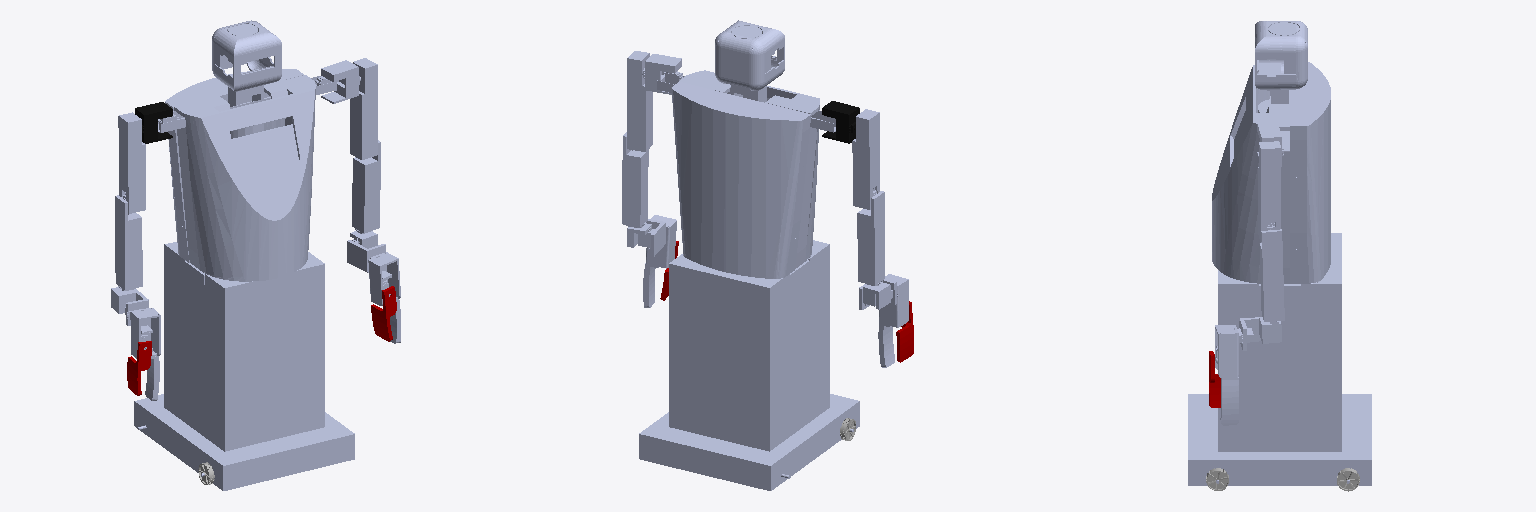
--- Render facts (derived) ---
Views: 3 orthographic renders of the robot side by side, from view 1: azimuth 30°, elevation 25°; view 2: azimuth 150°, elevation 25°; view 3: azimuth 270°, elevation 25°.
Model ardop3_final with 20 links and 19 joints (18 continuous, 1 fixed), rooted at odom, posed every joint at zero.
Links seen in each view (by area): view 1: base_link, bicep_right_Link, bicep_left_Link, forearm_right_Link, forearm_left_Link, wrist3_right_Link, wrist3_left_Link, shoulder_left_Link, shoulder_right_Link, end_effector_left_Link, end_effector_right_Link, wrist2_left_Link; view 2: base_link, bicep_right_Link, forearm_right_Link, bicep_left_Link, forearm_left_Link, wrist3_right_Link, wrist3_left_Link, shoulder_right_Link, shoulder_left_Link, end_effector_right_Link, wrist_right_Link; view 3: base_link, forearm_left_Link, wrist3_left_Link, bicep_left_Link, wrist2_left_Link, end_effector_left_Link.
Link boxes in pixels (box(x1,y1,x2,y2)): base_link: box(134, 20, 354, 490); bicep_right_Link: box(118, 112, 145, 214); bicep_left_Link: box(350, 58, 377, 159); forearm_right_Link: box(115, 195, 142, 290); forearm_left_Link: box(352, 140, 380, 233); wrist3_right_Link: box(131, 308, 160, 400); wrist3_left_Link: box(368, 253, 400, 343); shoulder_left_Link: box(321, 60, 360, 103); shoulder_right_Link: box(135, 102, 172, 143); end_effector_left_Link: box(371, 286, 396, 341); end_effector_right_Link: box(127, 341, 151, 395); wrist2_left_Link: box(347, 240, 387, 272); base_link: box(639, 20, 859, 490); bicep_right_Link: box(852, 109, 879, 209); forearm_right_Link: box(857, 191, 884, 285); bicep_left_Link: box(627, 51, 652, 151); forearm_left_Link: box(622, 132, 648, 227); wrist3_right_Link: box(878, 274, 908, 367); wrist3_left_Link: box(643, 215, 676, 307); shoulder_right_Link: box(822, 101, 859, 143); shoulder_left_Link: box(642, 54, 681, 94); end_effector_right_Link: box(896, 301, 913, 362); wrist_right_Link: box(863, 282, 890, 309); base_link: box(1188, 21, 1371, 485); forearm_left_Link: box(1259, 229, 1284, 323); wrist3_left_Link: box(1215, 325, 1238, 425); bicep_left_Link: box(1258, 141, 1280, 242); wrist2_left_Link: box(1237, 317, 1260, 350); end_effector_left_Link: box(1209, 351, 1220, 407).
Size in the robot's own frame: 0.762 by 0.444 by 1.14 metres.
18 mesh visuals loaded from 19 distinct referenced files (18 binary STL); not drawn: 1 (reference not matched to a file when rendering).

robot.urdf — ardop3_final:
<robot
  name="ardop3_final">
   <link name="odom" />

  <link
    name="base_link">
    <inertial>
      <origin
        xyz="0.23536 -0.35638 -0.15938"
        rpy="0 0 0" />
      <mass
        value="62.974" />
      <inertia
        ixx="3.1454"
        ixy="0.00068699"
        ixz="-0.0027041"
        iyy="3.0973"
        iyz="0.015046"
        izz="0.051979" />
    </inertial>
    <visual>
      <origin
        xyz="0 0 0"
        rpy="0 0 0" />
      <geometry>
        <mesh
          filename="package://ardop3_final/meshes/base_link.STL" />
      </geometry>
      <material
        name="">
        <color
          rgba="0.79216 0.81961 0.93333 1" />
      </material>
    </visual>
    <collision>
      <origin
        xyz="0 0 0"
        rpy="0 0 0" />
      <geometry>
        <mesh
          filename="package://ardop3_final/meshes/base_link.STL" />
      </geometry>
    </collision>
  </link>


      <joint
    name="odom_joint"
    type="fixed">
    <parent
      link="odom" />
    <child
      link="base_link" />
  </joint>



  <link
    name="wheel_front_left_Link">
    <inertial>
      <origin
        xyz="0.0075 -1.1546E-14 2.548E-14"
        rpy="0 0 0" />
      <mass
        value="2.00" />
      <inertia
        ixx="0"
        ixy="0"
        ixz="0"
        iyy="0"
        iyz="0"
        izz="0" />
    </inertial>
    <visual>
      <origin
        xyz="0 0 0"
        rpy="0 0 0" />
      <geometry>
        <mesh
          filename="package://ardop3_final/meshes/wheel_front_left_Link.STL" />
      </geometry>
      <material
        name="">
        <color
          rgba="0.75294 0.75294 0.75294 1" />
      </material>
    </visual>
    <collision>
      <origin
        xyz="0 0 0"
        rpy="0 0 0" />
      <geometry>
        <mesh
          filename="package://ardop3_final/meshes/wheel_front_left_Link.STL" />
      </geometry>
    </collision>
  </link>
  <joint
    name="wheel_front_left_joint"
    type="continuous">
    <origin
      xyz="0.42534 -0.50619 -0.47879"
      rpy="0.85877 0 0" />
    <parent
      link="base_link" />
    <child
      link="wheel_front_left_Link" />
    <axis
      xyz="1 0 0" />
  </joint>
  <link
    name="wheel_front_right_Link">
    <inertial>
      <origin
        xyz="0.0075 -1.7764E-15 3.8525E-14"
        rpy="0 0 0" />
      <mass
        value="2" />
      <inertia
        ixx="0"
        ixy="0"
        ixz="0"
        iyy="0"
        iyz="0"
        izz="0" />
    </inertial>
    <visual>
      <origin
        xyz="0 0 0"
        rpy="0 0 0" />
      <geometry>
        <mesh
          filename="package://ardop3_final/meshes/wheel_front_right_Link.STL" />
      </geometry>
      <material
        name="">
        <color
          rgba="0.75294 0.75294 0.75294 1" />
      </material>
    </visual>
    <collision>
      <origin
        xyz="0 0 0"
        rpy="0 0 0" />
      <geometry>
        <mesh
          filename="package://ardop3_final/meshes/wheel_front_right_Link.STL" />
      </geometry>
    </collision>
  </link>
  <joint
    name="wheel_front_right_joint"
    type="continuous">
    <origin
      xyz="0.030335 -0.50619 -0.47879"
      rpy="1.5708 0 0" />
    <parent
      link="base_link" />
    <child
      link="wheel_front_right_Link" />
    <axis
      xyz="1 0 0" />
  </joint>
  <link
    name="wheel_back_left_Link">
    <inertial>
      <origin
        xyz="0.0075 -8.0491E-15 3.7748E-15"
        rpy="0 0 0" />
      <mass
        value="2" />
      <inertia
        ixx="0"
        ixy="0"
        ixz="0"
        iyy="0"
        iyz="0"
        izz="0" />
    </inertial>
    <visual>
      <origin
        xyz="0 0 0"
        rpy="0 0 0" />
      <geometry>
        <mesh
          filename="package://ardop3_final/meshes/wheel_back_left_Link.STL" />
      </geometry>
      <material
        name="">
        <color
          rgba="0.75294 0.75294 0.75294 1" />
      </material>
    </visual>
    <collision>
      <origin
        xyz="0 0 0"
        rpy="0 0 0" />
      <geometry>
        <mesh
          filename="package://ardop3_final/meshes/wheel_back_left_Link.STL" />
      </geometry>
    </collision>
  </link>
  <joint
    name="wheel_back_left_joint"
    type="continuous">
    <origin
      xyz="0.42534 -0.19004 -0.47879"
      rpy="1.6891 0 0" />
    <parent
      link="base_link" />
    <child
      link="wheel_back_left_Link" />
    <axis
      xyz="1 0 0" />
  </joint>
  <link
    name="wheel_back_right_Link">
    <inertial>
      <origin
        xyz="0.0075 -1.7764E-15 3.8525E-14"
        rpy="0 0 0" />
      <mass
        value="2" />
      <inertia
        ixx="0"
        ixy="0"
        ixz="0"
        iyy="0"
        iyz="0"
        izz="0" />
    </inertial>
    <visual>
      <origin
        xyz="0 0 0"
        rpy="0 0 0" />
      <geometry>
        <mesh
          filename="package://ardop3_final/meshes/wheel_back_right_Link.STL" />
      </geometry>
      <material
        name="">
        <color
          rgba="0.75294 0.75294 0.75294 1" />
      </material>
    </visual>
    <collision>
      <origin
        xyz="0 0 0"
        rpy="0 0 0" />
      <geometry>
        <mesh
          filename="package://ardop3_final/meshes/wheel_back_right_Link.STL" />
      </geometry>
    </collision>
  </link>
  <joint
    name="wheel_back_right_joint"
    type="continuous">
    <origin
      xyz="0.030335 -0.19004 -0.47879"
      rpy="1.5708 0 0" />
    <parent
      link="base_link" />
    <child
      link="wheel_back_right_Link" />
    <axis
      xyz="1 0 0" />
  </joint>
  <link
    name="shoulder_right_Link">
    <inertial>
      <origin
        xyz="0.008031 0.036032 0.043945"
        rpy="0 0 0" />
      <mass
        value="0.20851" />
      <inertia
        ixx="0.00"
        ixy="0.00"
        ixz="0.00"
        iyy="0.00"
        iyz="0.00"
        izz="0.00" />
    </inertial>
    <visual>
      <origin
        xyz="0 0 0"
        rpy="0 0 0" />
      <geometry>
        <mesh
          filename="package://ardop3_final/meshes/shoulder_right_Link.STL" />
      </geometry>
      <material
        name="">
        <color
          rgba="0.098039 0.098039 0.098039 1" />
      </material>
    </visual>
    <collision>
      <origin
        xyz="0 0 0"
        rpy="0 0 0" />
      <geometry>
        <mesh
          filename="package://ardop3_final/meshes/shoulder_right_Link.STL" />
      </geometry>
    </collision>
  </link>
  <joint
    name="shoulder_right_joint"
    type="continuous">
    <origin
      xyz="-0.0058888 -0.36975 0.40275"
      rpy="-1.0091E-17 6.0393E-17 1.4052" />
    <parent
      link="base_link" />
    <child
      link="shoulder_right_Link" />
    <axis
      xyz="0 0 1" />
      		<limit
			effort="300"
			velocity="3"
			lower="-0.45"
			upper="1.10" />
		<dynamics 
			damping="50" 
			friction="1" />

  </joint>
  <link
    name="bicep_right_Link">
    <inertial>
      <origin
        xyz="0.034239 -0.094496 -0.012958"
        rpy="0 0 0" />
      <mass
        value="0.5828" />
      <inertia
        ixx="0.00"
        ixy="0.00"
        ixz="0.00"
        iyy="0.00"
        iyz="0.00"
        izz="0.00" />
    </inertial>
    <visual>
      <origin
        xyz="0 0 0"
        rpy="0 0 0" />
      <geometry>
        <mesh
          filename="package://ardop3_final/meshes/bicep_right_Link.STL" />
      </geometry>
      <material
        name="">
        <color
          rgba="0.79216 0.81961 0.93333 1" />
      </material>
    </visual>
    <collision>
      <origin
        xyz="0 0 0"
        rpy="0 0 0" />
      <geometry>
        <mesh
          filename="package://ardop3_final/meshes/bicep_right_Link.STL" />
      </geometry>
    </collision>
  </link>
  <joint
    name="bicep_right_joint"
    type="continuous">
    <origin
      xyz="0.0026622 0.055751 0.04"
      rpy="1.5837 -4.5667E-16 1.5708" />
    <parent
      link="shoulder_right_Link" />
    <child
      link="bicep_right_Link" />
    <axis
      xyz="-1 0 0" />
            		<limit
			effort="300"
			velocity="3"
			lower="-0.45"
			upper="1.10" />
		<dynamics 
			damping="50" 
			friction="1" />
  </joint>
  <link
    name="forearm_right_Link">
    <inertial>
      <origin
        xyz="0.035742 -0.11544 -0.0072022"
        rpy="0 0 0" />
      <mass
        value="0.4986" />
      <inertia
        ixx="0.00"
        ixy="0.00"
        ixz="0.00"
        iyy="0.00"
        iyz="0.00"
        izz="0.00" />
    </inertial>
    <visual>
      <origin
        xyz="0 0 0"
        rpy="0 0 0" />
      <geometry>
        <mesh
          filename="package://ardop3_final/meshes/forearm_right_Link.STL" />
      </geometry>
      <material
        name="">
        <color
          rgba="0.79216 0.81961 0.93333 1" />
      </material>
    </visual>
    <collision>
      <origin
        xyz="0 0 0"
        rpy="0 0 0" />
      <geometry>
        <mesh
          filename="package://ardop3_final/meshes/forearm_right_Link.STL" />
      </geometry>
    </collision>
  </link>
  <joint
    name="forearm_right_joint"
    type="continuous">
    <origin
      xyz="0.0094954 -0.20676 -0.00095309"
      rpy="0.065442 2.7756E-17 -9.3241E-16" />
    <parent
      link="bicep_right_Link" />
    <child
      link="forearm_right_Link" />
    <axis
      xyz="-1 0 0" />
            		<limit
			effort="300"
			velocity="3"
			lower="-0.45"
			upper="1.10" />
		<dynamics 
			damping="50" 
			friction="1" />
  </joint>
  <link
    name="wrist_right_Link">
    <inertial>
      <origin
        xyz="0.0016567 -0.0025515 0.025349"
        rpy="0 0 0" />
      <mass
        value="0.10422" />
      <inertia
        ixx="0.00"
        ixy="0.00"
        ixz="0.00"
        iyy="0.00"
        iyz="0.00"
        izz="0.00" />
    </inertial>
    <visual>
      <origin
        xyz="0 0 0"
        rpy="0 0 0" />
      <geometry>
        <mesh
          filename="package://ardop3_final/meshes/wrist_right_Link.STL" />
      </geometry>
      <material
        name="">
        <color
          rgba="0.79216 0.81961 0.93333 1" />
      </material>
    </visual>
    <collision>
      <origin
        xyz="0 0 0"
        rpy="0 0 0" />
      <geometry>
        <mesh
          filename="package://ardop3_final/meshes/wrist_right_Link.STL" />
      </geometry>
    </collision>
  </link>
  <joint
    name="wrist_right_joint"
    type="continuous">
    <origin
      xyz="0.046015 -0.227 0"
      rpy="1.5708 -0.11078 1.5499E-15" />
    <parent
      link="forearm_right_Link" />
    <child
      link="wrist_right_Link" />
    <axis
      xyz="-0.0086546 -0.077803 -0.99693" />
            		<limit
			effort="300"
			velocity="3"
			lower="-0.45"
			upper="1.10" />
		<dynamics 
			damping="50" 
			friction="1" />
  </joint>
  <link
    name="wrist2_right_Link">
    <inertial>
      <origin
        xyz="0.014104 -0.0027203 0.031031"
        rpy="0 0 0" />
      <mass
        value="0.10052" />
      <inertia
        ixx="0.00"
        ixy="0.00"
        ixz="0.00"
        iyy="0.00"
        iyz="0.00"
        izz="0.00" />
    </inertial>
    <visual>
      <origin
        xyz="0 0 0"
        rpy="0 0 0" />
      <geometry>
        <mesh
          filename="package://ardop3_final/meshes/wrist2_right_Link.STL" />
      </geometry>
      <material
        name="">
        <color
          rgba="0.79216 0.81961 0.93333 1" />
      </material>
    </visual>
    <collision>
      <origin
        xyz="0 0 0"
        rpy="0 0 0" />
      <geometry>
        <mesh
          filename="package://ardop3_final/meshes/wrist2_right_Link.STL" />
      </geometry>
    </collision>
  </link>
  <joint
    name="wrist2_right_joint"
    type="continuous">
    <origin
      xyz="-0.045183 -0.0059131 0.039398"
      rpy="-1.5489 0.0095341 -2.0545" />
    <parent
      link="wrist_right_Link" />
    <child
      link="wrist2_right_Link" />
    <axis
      xyz="0 0 -1" />
            		<limit
			effort="300"
			velocity="3"
			lower="-0.45"
			upper="1.10" />
		<dynamics 
			damping="50" 
			friction="1" />
  </joint>
  <link
    name="wrist3_right_Link">
    <inertial>
      <origin
        xyz="0.043625 -0.093581 0.018325"
        rpy="0 0 0" />
      <mass
        value="0.23397" />
      <inertia
        ixx="0.00"
        ixy="0.00"
        ixz="0.00"
        iyy="0.00"
        iyz="0.00"
        izz="0.00"/>
    </inertial>
    <visual>
      <origin
        xyz="0 0 0"
        rpy="0 0 0" />
      <geometry>
        <mesh
          filename="package://ardop3_final/meshes/wrist3_right_Link.STL" />
      </geometry>
      <material
        name="">
        <color
          rgba="0.79216 0.81961 0.93333 1" />
      </material>
    </visual>
    <collision>
      <origin
        xyz="0 0 0"
        rpy="0 0 0" />
      <geometry>
        <mesh
          filename="package://ardop3_final/meshes/wrist3_right_Link.STL" />
      </geometry>
    </collision>
  </link>
  <joint
    name="wrist3_right_joint"
    type="continuous">
    <origin
      xyz="0.01492 0 0.024641"
      rpy="-0.04401 1.3878E-15 -8.4655E-16" />
    <parent
      link="wrist2_right_Link" />
    <child
      link="wrist3_right_Link" />
    <axis
      xyz="1 0 0" />
            		<limit
			effort="300"
			velocity="3"
			lower="-0.45"
			upper="1.10" />
		<dynamics 
			damping="50" 
			friction="1" />
  </joint>
  <link
    name="end_effector_right_Link">
    <inertial>
      <origin
        xyz="0.025925 -0.035853 0.078039"
        rpy="0 0 0" />
      <mass
        value="0.07271" />
      <inertia
        ixx="0"
        ixy="0"
        ixz="0"
        iyy="0"
        iyz="0"
        izz="0" />
    </inertial>
    <visual>
      <origin
        xyz="0 0 0"
        rpy="0 0 0" />
      <geometry>
        <mesh
          filename="package://ardop3_final/meshes/end_effector_right_Link.STL" />
      </geometry>
      <material
        name="">
        <color
          rgba="0.75294 0 0 1" />
      </material>
    </visual>
    <collision>
      <origin
        xyz="0 0 0"
        rpy="0 0 0" />
      <geometry>
        <mesh
          filename="package://ardop3_final/meshes/end_effector_right_Link.STL" />
      </geometry>
    </collision>
  </link>
  <joint
    name="end_effector_right_joint"
    type="continuous">
    <origin
      xyz="0.0077442 -0.068318 0.016305"
      rpy="9.9928E-15 -1.4511 1.5708" />
    <parent
      link="wrist3_right_Link" />
    <child
      link="end_effector_right_Link" />
    <axis
      xyz="0 -1 0" />
            		<limit
			effort="300"
			velocity="3"
			lower="-0.45"
			upper="1.10" />
		<dynamics 
			damping="50" 
			friction="1" />
  </joint>
  <link
    name="shoulder_left_Link">
    <inertial>
      <origin
        xyz="-0.013011 0.043945 0.034563"
        rpy="0 0 0" />
      <mass
        value="0.20851" />
      <inertia
        ixx="0.00"
        ixy="0.00"
        ixz="0.00"
        iyy="0.00"
        iyz="0.00"
        izz="0.00" />
    </inertial>
    <visual>
      <origin
        xyz="0 0 0"
        rpy="0 0 0" />
      <geometry>
        <mesh
          filename="package://ardop3_final/meshes/shoulder_left_Link.STL" />
      </geometry>
      <material
        name="">
        <color
          rgba="0.79216 0.81961 0.93333 1" />
      </material>
    </visual>
    <collision>
      <origin
        xyz="0 0 0"
        rpy="0 0 0" />
      <geometry>
        <mesh
          filename="package://ardop3_final/meshes/shoulder_left_Link.STL" />
      </geometry>
    </collision>
  </link>
  <joint
    name="shoulder_left_joint"
    type="continuous">
    <origin
      xyz="0.47191 -0.36975 0.40275"
      rpy="1.5708 6.0648E-17 1.7088" />
    <parent
      link="base_link" />
    <child
      link="shoulder_left_Link" />
    <axis
      xyz="0 1 0" />
            		<limit
			effort="300"
			velocity="3"
			lower="-0.45"
			upper="1.10" />
		<dynamics 
			damping="50" 
			friction="1" />
  </joint>
  <link
    name="bicep_left_Link">
    <inertial>
      <origin
        xyz="0.025363 -0.094315 1.1749E-05"
        rpy="0 0 0" />
      <mass
        value="0.58271" />
      <inertia
        ixx="0.00"
        ixy="0.00"
        ixz="0.00"
        iyy="0.00"
        iyz="0.00"
        izz="0.00" />
    </inertial>
    <visual>
      <origin
        xyz="0 0 0"
        rpy="0 0 0" />
      <geometry>
        <mesh
          filename="package://ardop3_final/meshes/bicep_left_Link.STL" />
      </geometry>
      <material
        name="">
        <color
          rgba="0.79216 0.81961 0.93333 1" />
      </material>
    </visual>
    <collision>
      <origin
        xyz="0 0 0"
        rpy="0 0 0" />
      <geometry>
        <mesh
          filename="package://ardop3_final/meshes/bicep_left_Link.STL" />
      </geometry>
    </collision>
  </link>
  <joint
    name="bicep_left_joint"
    type="continuous">
    <origin
      xyz="-0.02288 0.04 0.065349"
      rpy="-1.5786 -1.5708 1.5786" />
    <parent
      link="shoulder_left_Link" />
    <child
      link="bicep_left_Link" />
    <axis
      xyz="1 0 0" />
            		<limit
			effort="300"
			velocity="3"
			lower="-0.45"
			upper="1.10" />
		<dynamics 
			damping="50" 
			friction="1" />
  </joint>
  <link
    name="forearm_left_Link">
    <inertial>
      <origin
        xyz="0.025472 -0.11452 -2.2204E-16"
        rpy="0 0 0" />
      <mass
        value="0.49851" />
      <inertia
        ixx="0.00"
        ixy="0.00"
        ixz="0.00"
        iyy="0.00"
        iyz="0.00"
        izz="0.00" />
    </inertial>
    <visual>
      <origin
        xyz="0 0 0"
        rpy="0 0 0" />
      <geometry>
        <mesh
          filename="package://ardop3_final/meshes/forearm_left_Link.STL" />
      </geometry>
      <material
        name="">
        <color
          rgba="0.79216 0.81961 0.93333 1" />
      </material>
    </visual>
    <collision>
      <origin
        xyz="0 0 0"
        rpy="0 0 0" />
      <geometry>
        <mesh
          filename="package://ardop3_final/meshes/forearm_left_Link.STL" />
      </geometry>
    </collision>
  </link>
  <joint
    name="forearm_left_joint"
    type="continuous">
    <origin
      xyz="0.011557 -0.20676 -0.00095309"
      rpy="0.027216 -8.3267E-17 -4.6404E-17" />
    <parent
      link="bicep_left_Link" />
    <child
      link="forearm_left_Link" />
    <axis
      xyz="1 0 0" />
            		<limit
			effort="300"
			velocity="3"
			lower="-0.45"
			upper="1.10" />
		<dynamics 
			damping="50" 
			friction="1" />
  </joint>
  <link
    name="wrist_left_Link">
    <inertial>
      <origin
        xyz="0.0095256 0.00061503 0.025592"
        rpy="0 0 0" />
      <mass
        value="0.10422" />
      <inertia
        ixx="0.00"
        ixy="0.00"
        ixz="0.00"
        iyy="0.00"
        iyz="0.00"
        izz="0.00" />
    </inertial>
    <visual>
      <origin
        xyz="0 0 0"
        rpy="0 0 0" />
      <geometry>
        <mesh
          filename="package://ardop3_final/meshes/wrist_left_Link.STL" />
      </geometry>
      <material
        name="">
        <color
          rgba="0.79216 0.81961 0.93333 1" />
      </material>
    </visual>
    <collision>
      <origin
        xyz="0 0 0"
        rpy="0 0 0" />
      <geometry>
        <mesh
          filename="package://ardop3_final/meshes/wrist_left_Link.STL" />
      </geometry>
    </collision>
  </link>
  <joint
    name="wrist_left_joint"
    type="continuous">
    <origin
      xyz="0.014138 -0.22586 0"
      rpy="1.5708 -1.5571 -1.2195E-13" />
    <parent
      link="forearm_left_Link" />
    <child
      link="wrist_left_Link" />
    <axis
      xyz="0 0 -1" />
            		<limit
			effort="300"
			velocity="3"
			lower="-0.45"
			upper="1.10" />
		<dynamics 
			damping="50" 
			friction="1" />
  </joint>
  <link
    name="wrist2_left_Link">
    <inertial>
      <origin
        xyz="0.053846 -0.0074042 -0.023249"
        rpy="0 0 0" />
      <mass
        value="0.10043" />
      <inertia
        ixx="0.00"
        ixy="0.00"
        ixz="0.00"
        iyy="0.00"
        iyz="0.00"
        izz="0.00" />
    </inertial>
    <visual>
      <origin
        xyz="0 0 0"
        rpy="0 0 0" />
      <geometry>
        <mesh
          filename="package://ardop3_final/meshes/wrist2_left_Link.STL" />
      </geometry>
      <material
        name="">
        <color
          rgba="0.79216 0.81961 0.93333 1" />
      </material>
    </visual>
    <collision>
      <origin
        xyz="0 0 0"
        rpy="0 0 0" />
      <geometry>
        <mesh
          filename="package://ardop3_final/meshes/wrist2_left_Link.STL" />
      </geometry>
    </collision>
  </link>
  <joint
    name="wrist2_left_joint"
    type="continuous">
    <origin
      xyz="0 0 0.05"
      rpy="1.5708 0.038811 1.5833E-15" />
    <parent
      link="wrist_left_Link" />
    <child
      link="wrist2_left_Link" />
    <axis
      xyz="0 0 1" />
            		<limit
			effort="300"
			velocity="3"
			lower="-0.45"
			upper="1.10" />
		<dynamics 
			damping="50" 
			friction="1" />
  </joint>
  <link
    name="wrist3_left_Link">
    <inertial>
      <origin
        xyz="0.10697 -0.077986 0.01411"
        rpy="0 0 0" />
      <mass
        value="0.23387" />
 <!--     <inertia
        ixx="0.000719"
        ixy="2.8406E-06"
        ixz="-4.2208E-06"
        iyy="4.0736E-05"
        iyz="-0.00014276"
        izz="0.0006842" /> -->
      <inertia
        ixx="0.0"
        ixy="0.00"
        ixz="0.00"
        iyy="0.00"
        iyz="0.00"
        izz="0.0" /> 

    </inertial>
    <visual>
      <origin
        xyz="0 0 0"
        rpy="0 0 0" />
      <geometry>
        <mesh
          filename="package://ardop3_final/meshes/wrist3_left_Link.STL" />
      </geometry>
      <material
        name="">
        <color
          rgba="0.79216 0.81961 0.93333 1" />
      </material>
    </visual>
    <collision>
      <origin
        xyz="0 0 0"
        rpy="0 0 0" />
      <geometry>
        <mesh
          filename="package://ardop3_final/meshes/wrist3_left_Link.STL" />
      </geometry>
    </collision>
  </link>
  <joint
    name="wrist3_left_joint"
    type="continuous">
    <origin
      xyz="0 0 0"
      rpy="-3.0772 -2.7756E-17 2.6784E-15" />
    <parent
      link="wrist2_left_Link" />
    <child
      link="wrist3_left_Link" />
    <axis
      xyz="1 0 0" />
            		<limit
			effort="300"
			velocity="3"
			lower="-0.45"
			upper="1.10" />
		<dynamics 
			damping="50" 
			friction="1" />
  </joint>
  <link
    name="end_effector_left_Link">
    <inertial>
      <origin
        xyz="0.0080676 -0.045919 0.066609"
        rpy="0 0 0" />
      <mass
        value="0.07271" />
      <inertia
        ixx="0"
        ixy="0"
        ixz="0"
        iyy="0"
        iyz="0"
        izz="0" />
    </inertial>
    <visual>
      <origin
        xyz="0 0 0"
        rpy="0 0 0" />
      <geometry>
        <mesh
          filename="package://ardop3_final/meshes/end_effector_left_Link.STL" />
      </geometry>
      <material
        name="">
        <color
          rgba="0.75294 0 0 1" />
      </material>
    </visual>
    <collision>
      <origin
        xyz="0 0 0"
        rpy="0 0 0" />
      <geometry>
        <mesh
          filename="package://ardop3_final/meshes/end_effector_left_Link.STL" />
      </geometry>
    </collision>
  </link>
  <joint
    name="end_effector_left_joint"
    type="continuous">
    <origin
      xyz="0.081467 -0.059715 0.034648"
      rpy="3.1416 -1.5419 -1.5708" />
    <parent
      link="wrist3_left_Link" />
    <child
      link="end_effector_left_Link" />
    <axis
      xyz="0 -1 0" />
            		<limit
			effort="300"
			velocity="3"
			lower="-0.45"
			upper="1.10" />
		<dynamics 
			damping="50" 
			friction="1" />
  </joint>



<gazebo 
    reference="odom">
  </gazebo>

    <gazebo reference="shoulder_left_link">
      <selfCollide>true</selfCollide>
    </gazebo>
    <gazebo reference="bicep_left_Link">
      <selfCollide>true</selfCollide>
    </gazebo>
    <gazebo reference="forearm_left_Link">
      <selfCollide>true</selfCollide>
    </gazebo>
    <gazebo reference="wrist_left_Link">
      <selfCollide>true</selfCollide>
    </gazebo>
    <gazebo reference="wrist2_left_Link">
      <selfCollide>true</selfCollide>
    </gazebo>
    <gazebo reference="wrist3_left_link">
      <selfCollide>true</selfCollide>
    </gazebo>
    <gazebo reference="end_effector_left_link">
      <selfCollide>true</selfCollide>
    </gazebo>



    <gazebo reference="shoulder_right_link">
      <selfCollide>true</selfCollide>
    </gazebo>
    <gazebo reference="bicep_right_Link">
      <selfCollide>true</selfCollide>
    </gazebo>
    <gazebo reference="forearm_right_Link">
      <selfCollide>true</selfCollide>
    </gazebo>
    <gazebo reference="wrist_right_Link">
      <selfCollide>true</selfCollide>
    </gazebo>
    <gazebo reference="wrist2_right_Link">
      <selfCollide>true</selfCollide>
    </gazebo>
    <gazebo reference="wrist3_right_link">
      <selfCollide>true</selfCollide>
    </gazebo>
    <gazebo reference="end_effector_right_link">
      <selfCollide>true</selfCollide>
    </gazebo>







  <gazebo reference="base_link">
    <material>Gazebo/White</material>
    <turnGravityOff>false</turnGravityOff>
  </gazebo>


  <gazebo reference="wheel_front_left_Link">
    <!--fdir1 value="1 0 0"/-->
    <material>Gazebo/Grey</material>
    <turnGravityOff>false</turnGravityOff>
  </gazebo>

  <gazebo reference="wheel_front_right_Link">
    <!--fdir1 value="1 0 0"/-->
    <material>Gazebo/Grey</material>
    <turnGravityOff>false</turnGravityOff>
  </gazebo>

  <gazebo reference="wheel_back_left_Link">
    <!--fdir1 value="1 0 0"/-->
    <material>Gazebo/Grey</material>
    <turnGravityOff>false</turnGravityOff>
  </gazebo>

  <gazebo reference="wheel_back_right_Link">
    <!--fdir1 value="1 0 0"/-->
    <material>Gazebo/Grey</material>
    <turnGravityOff>false</turnGravityOff>
  </gazebo>




  <gazebo reference="shoulder_left_Link">
    <material>Gazebo/Red</material>
    <turnGravityOff>false</turnGravityOff>
  </gazebo>

  <gazebo reference="bicep_left_Link">
    <material>Gazebo/Red</material>
    <turnGravityOff>false</turnGravityOff>
  </gazebo>

  <gazebo reference="forearm_left_link">
    <material>Gazebo/Red</material>
    <turnGravityOff>false</turnGravityOff>
  </gazebo>

  <gazebo reference="wrist_left_link">
    <material>Gazebo/Red</material>
    <turnGravityOff>false</turnGravityOff>
  </gazebo>

  <gazebo reference="wrist2_left_link">
    <material>Gazebo/Red</material>
    <turnGravityOff>false</turnGravityOff>
  </gazebo>

  <gazebo reference="wrist3_left_link">
    <material>Gazebo/Red</material>
    <turnGravityOff>false</turnGravityOff>
  </gazebo>


  <gazebo reference="end_effector_left_link">
    <material>Gazebo/Blue</material>
    <turnGravityOff>false</turnGravityOff>
  </gazebo>



  <gazebo reference="shoulder_right_Link">
    <material>Gazebo/Red</material>
    <turnGravityOff>false</turnGravityOff>
  </gazebo>

  <gazebo reference="bicep_right_Link">
    <material>Gazebo/Red</material>
    <turnGravityOff>false</turnGravityOff>
  </gazebo>

  <gazebo reference="forearm_right_link">
    <material>Gazebo/Red</material>
    <turnGravityOff>false</turnGravityOff>
  </gazebo>

  <gazebo reference="wrist_right_link">
    <material>Gazebo/Red</material>
    <turnGravityOff>false</turnGravityOff>
  </gazebo>

  <gazebo reference="wrist2_right_link">
    <material>Gazebo/Red</material>
    <turnGravityOff>false</turnGravityOff>
  </gazebo>

  <gazebo reference="wrist3_right_link">
    <material>Gazebo/Red</material>
    <turnGravityOff>false</turnGravityOff>
  </gazebo>


  <gazebo reference="end_effector_right_link">
    <material>Gazebo/Blue</material>
    <turnGravityOff>false</turnGravityOff>
  </gazebo>




</robot>
